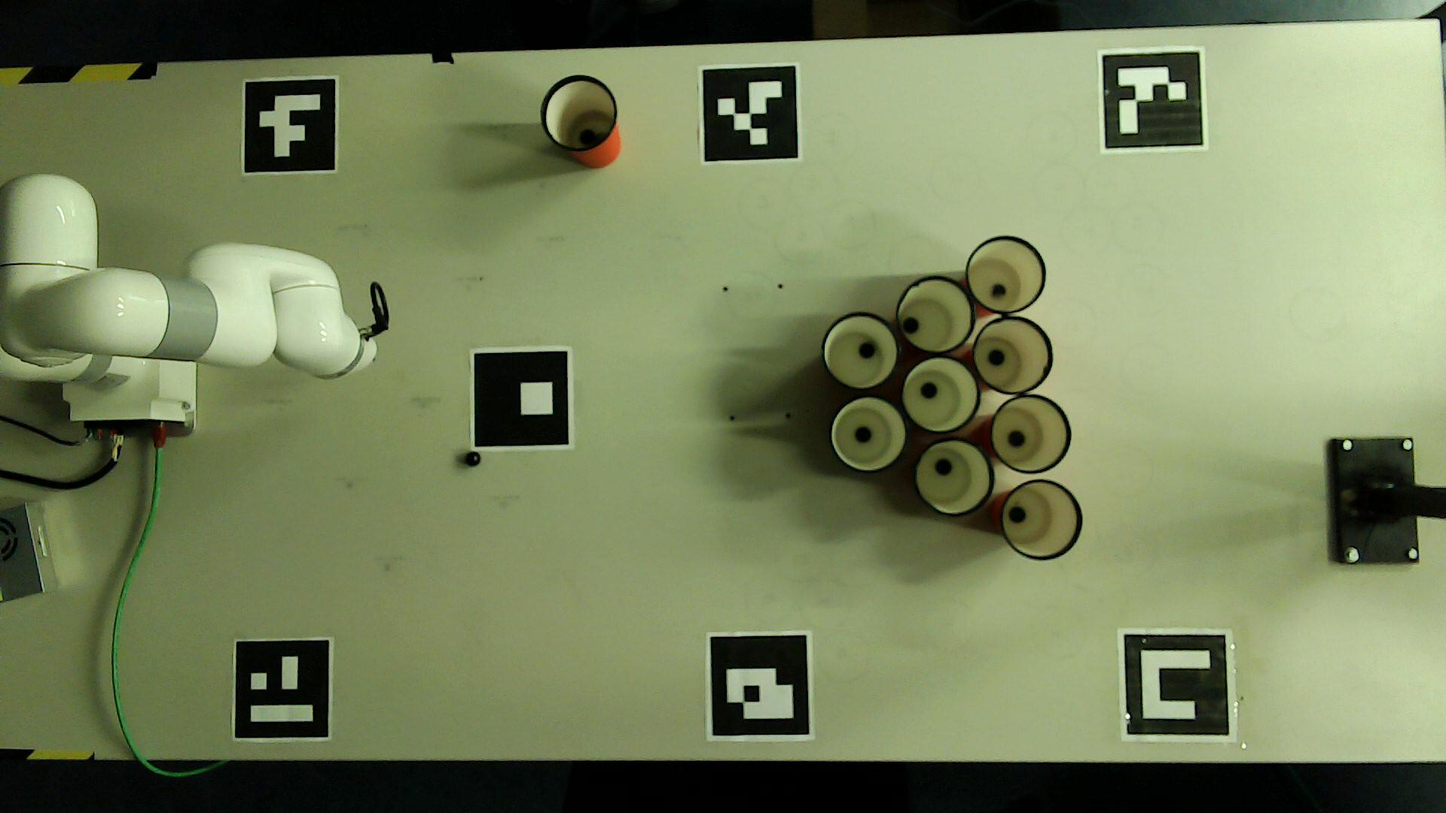ball: (859, 341, 874, 358), (1009, 431, 1024, 446), (990, 350, 1005, 365), (937, 459, 951, 475), (922, 382, 936, 398), (904, 318, 919, 332), (580, 130, 594, 145), (1011, 507, 1024, 522), (857, 427, 869, 442), (466, 453, 479, 466), (993, 285, 1006, 296)
cup: (830, 395, 908, 473), (896, 277, 975, 353), (823, 313, 900, 390), (1003, 480, 1079, 557), (902, 357, 979, 432), (968, 238, 1045, 312), (993, 397, 1068, 472), (975, 317, 1051, 391), (915, 441, 991, 514), (543, 76, 616, 150)
